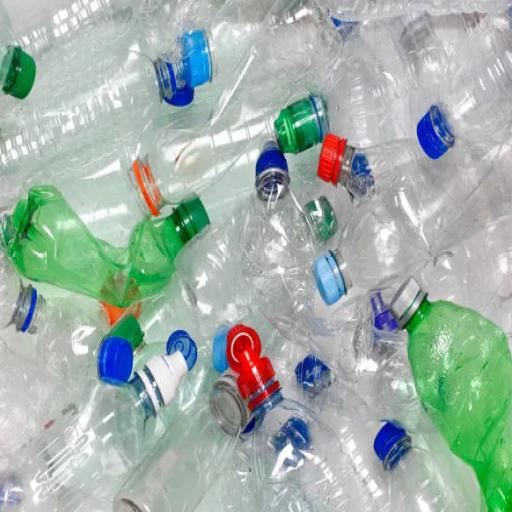bottles: (0, 351, 194, 511), (391, 278, 511, 511), (227, 326, 376, 511), (4, 186, 209, 306), (323, 14, 480, 146), (142, 90, 328, 201), (318, 134, 484, 251), (242, 142, 342, 330), (114, 372, 248, 511), (0, 141, 164, 246), (0, 250, 108, 396), (417, 8, 511, 158), (313, 208, 428, 304), (421, 213, 511, 332), (176, 215, 254, 337), (374, 422, 473, 511), (0, 338, 60, 452), (0, 3, 36, 99)
